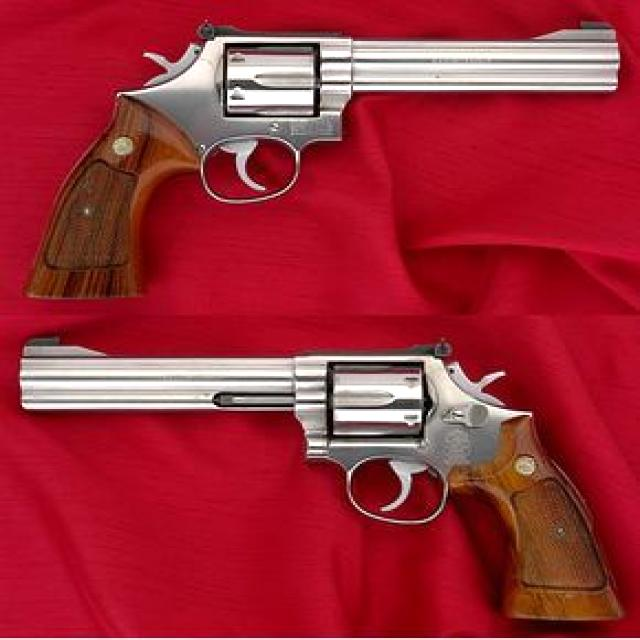revolver: (0, 0, 639, 317)
